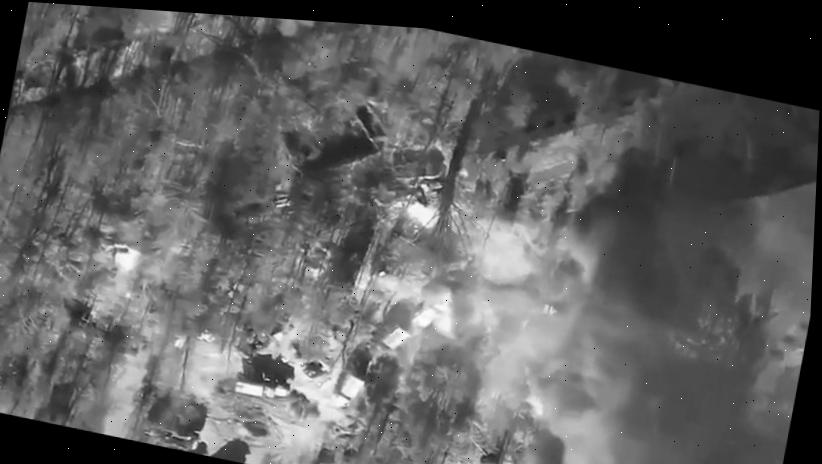truck: (403, 283, 456, 338), (233, 366, 292, 403), (367, 317, 413, 363), (330, 366, 367, 412)
